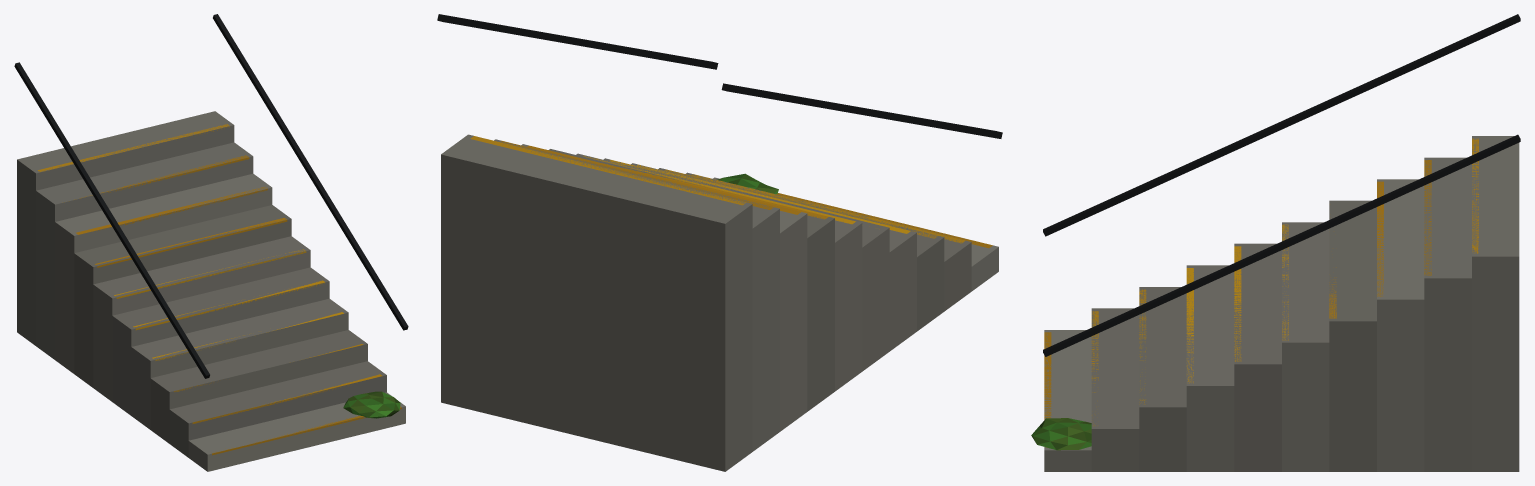
The model's file is kit_stairs.glb.
3 renders of one model, left to right at view 1: azimuth 30°, elevation 25°; view 2: azimuth 150°, elevation 25°; view 3: azimuth 270°, elevation 25°, orthographic. The views are drawn at different scales.
Visible parts, largest first — view 1: Mesh; view 2: Mesh; view 3: Mesh.
Part boxes in pixels (left/top/right/bottom): Mesh: left=14, top=14, right=408, bottom=471; Mesh: left=437, top=14, right=1002, bottom=471; Mesh: left=1031, top=14, right=1520, bottom=471.
Size of the model in its own units: 2.45 by 3.12 by 4.12.
